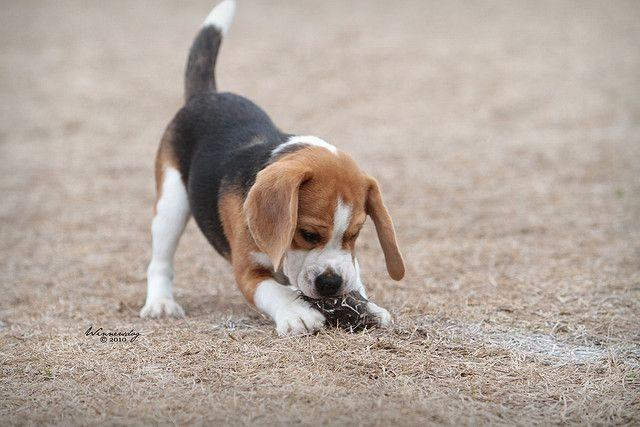puppy-dog: (135, 0, 408, 339)
